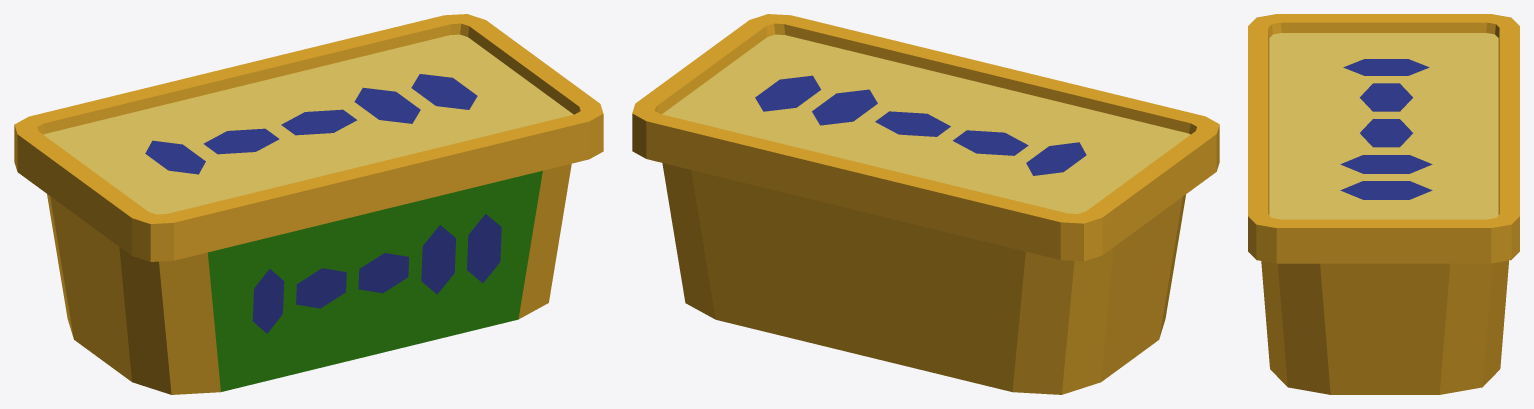
Rendered from Ma_Butter.fbx.
3 renders of one model, left to right at view 1: azimuth 30°, elevation 25°; view 2: azimuth 150°, elevation 25°; view 3: azimuth 270°, elevation 25°, orthographic. The views are drawn at different scales.
Visible parts, largest first — view 1: Ma_Butter; view 2: Ma_Butter; view 3: Ma_Butter.
Part boxes in pixels (<box>): Ma_Butter: <box>14,14,603,394</box>; Ma_Butter: <box>632,14,1219,394</box>; Ma_Butter: <box>1248,14,1519,394</box>.
Size of the model in its own units: 123 by 65.8 by 48.1.
